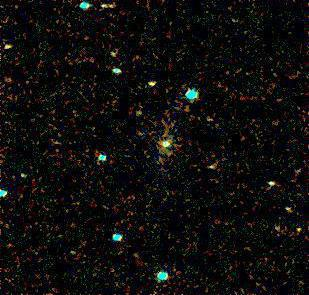star: (286, 214, 309, 244)
